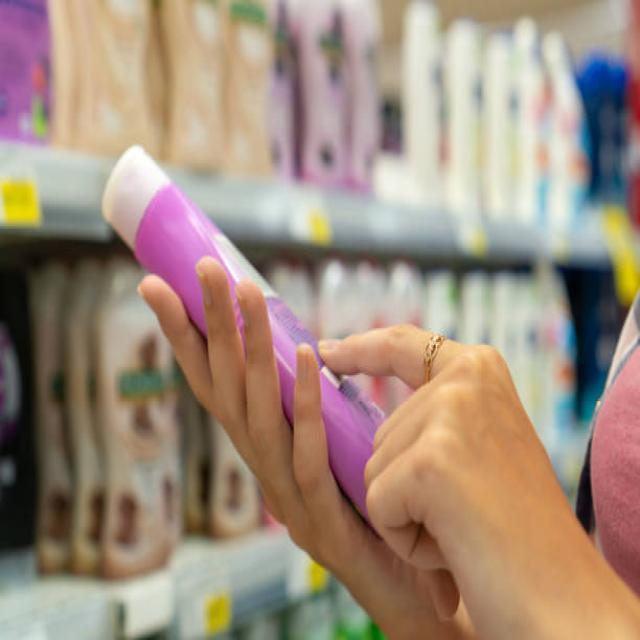article: (104, 146, 384, 519)
hands: (140, 259, 639, 638)
